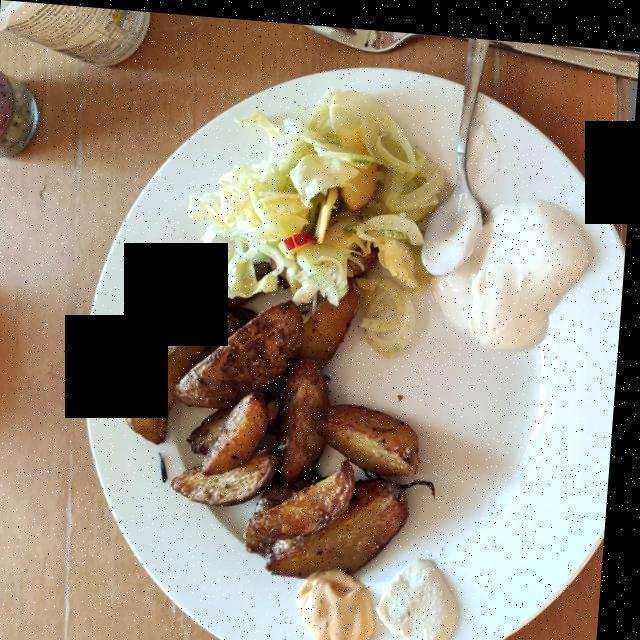cashew-nut: (377, 540, 470, 640)
dips: (306, 565, 381, 640)
fries: (127, 285, 432, 562)
salad: (175, 95, 455, 310)
sour-cream: (429, 199, 593, 348)
